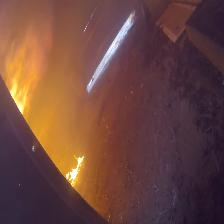fire: (7, 58, 35, 114), (60, 150, 89, 185)
